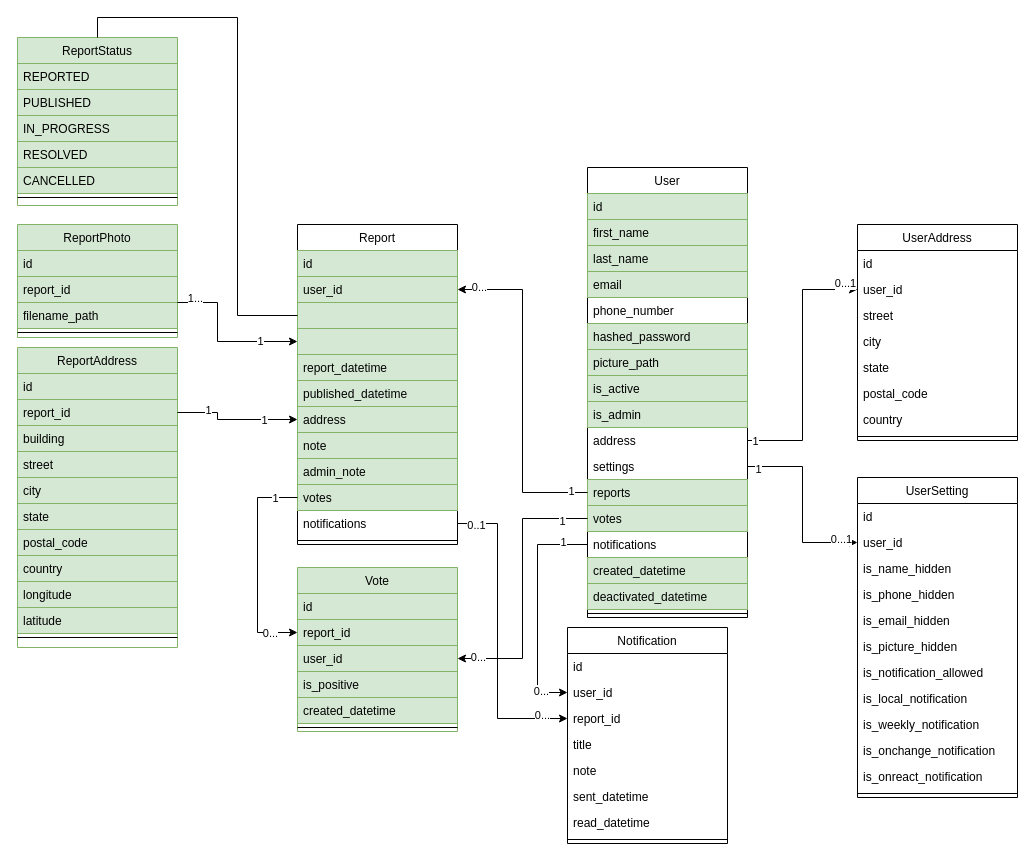
Some shapes in this 1035 by 861 pixel diagram are drawn without their labels. Each missing label, with the centre of its shape:
photos: point (377, 341)
status: point (377, 315)
